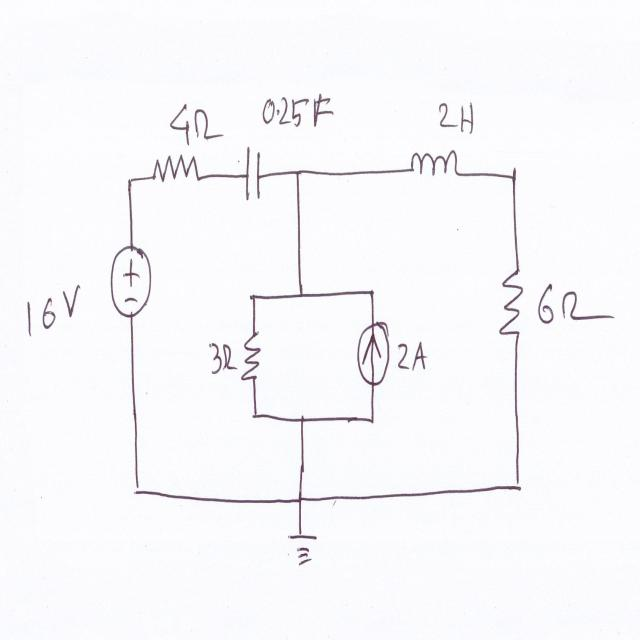capacitor: (242, 136, 264, 207)
current_source: (354, 314, 393, 398)
ground: (284, 519, 324, 571)
inductor: (406, 144, 463, 182)
resistor: (494, 253, 526, 344), (150, 148, 206, 191), (238, 323, 265, 396)
voltage_source: (106, 233, 156, 325)
